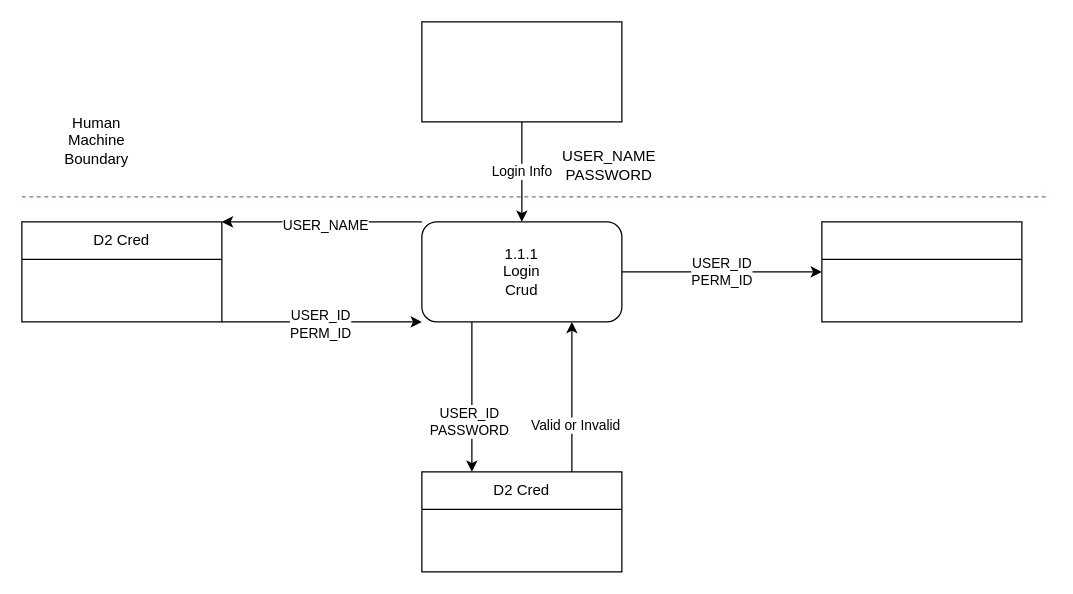
Image size: 1073x594. Some labels were removed from this diagram. Here are the shapes that lost their labels. From the top down, the centre of each, then its label:
point 521,71: User
point 921,271: D3 Session Variable
